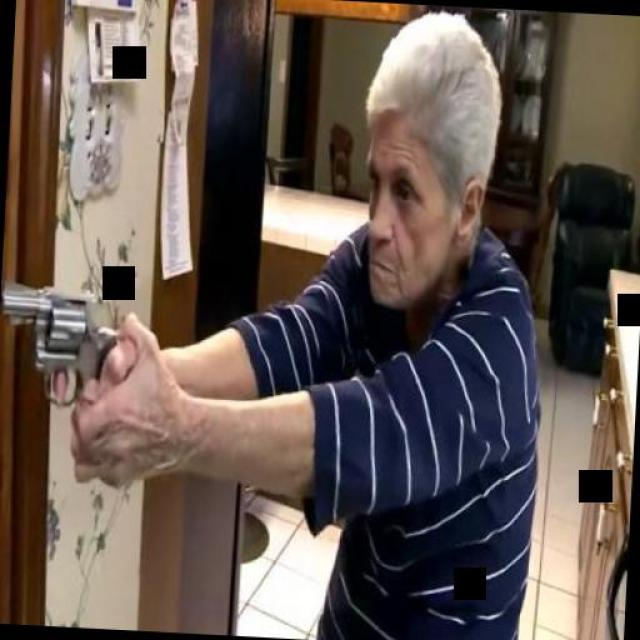gun: (0, 270, 156, 441)
